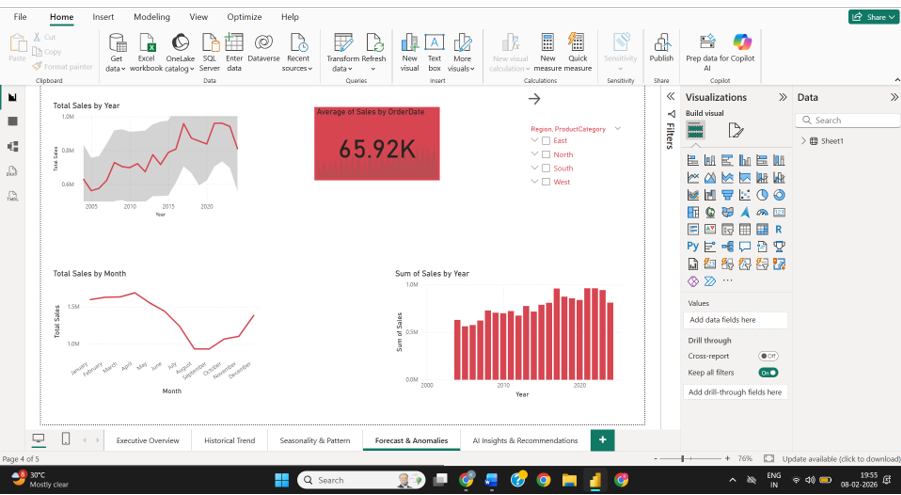

The dashboard page shown, as its layout file describes it:
{"tool":"powerbi","page":{"name":"Forecast & Anomalies","canvas":[1280,720],"ordinal":3},"visuals":[{"type":"lineChart","fields":{"Category":["Sheet1.OrderDate.Variation.Date Hierarchy.Year","Sheet1.OrderDate.Variation.Date Hierarchy.Quarter","Sheet1.OrderDate.Variation.Date Hierarchy.Month","Sheet1.OrderDate.Variation.Date Hierarchy.Day"],"Y":["Sheet1.Total Sales"]},"box":[20.9,34,413.6,251.3],"z":0},{"type":"kpi","fields":{"Indicator":["Avg(Sheet1.Sales)"],"TrendLine":["Sheet1.OrderDate"]},"box":[579.8,47.1,265.7,155.8],"z":1000},{"type":"lineChart","fields":{"Y":["Sheet1.Total Sales"],"Category":["Sheet1.OrderDate.Variation.Date Hierarchy.Month"]},"box":[20.9,390,447.6,272.2],"z":2000},{"type":"columnChart","fields":{"Category":["Sheet1.Year"],"Y":["Sum(Sheet1.Sales)"]},"box":[746.1,390,496.1,278.8],"z":3000},{"type":"slicer","fields":{"Values":["Sheet1.Region","Sheet1.ProductCategory"]},"box":[1026.2,79.8,216,159.7],"z":4000},{"type":"actionButton","box":[1028.9,13.3,67.8,34.4],"z":5000}]}

Visuals, with their boxes on the page's 1280x720 design canvas (x1, y1, x2, y2). These are canvas units, not pixel positions in the 901x495 screenshot, which may show the page scaled, cropped or inside an application window:
lineChart - Sheet1.OrderDate.Variation.Date Hierarchy.Year x Sheet1.OrderDate.Variation.Date Hierarchy.Quarter: box=[21, 34, 434, 285]
kpi - Avg(Sheet1.Sales) x Sheet1.OrderDate: box=[580, 47, 846, 203]
lineChart - Sheet1.Total Sales x Sheet1.OrderDate.Variation.Date Hierarchy.Month: box=[21, 390, 468, 662]
columnChart - Sheet1.Year x Sum(Sheet1.Sales): box=[746, 390, 1242, 669]
slicer - Sheet1.Region x Sheet1.ProductCategory: box=[1026, 80, 1242, 240]
actionButton: box=[1029, 13, 1097, 48]
